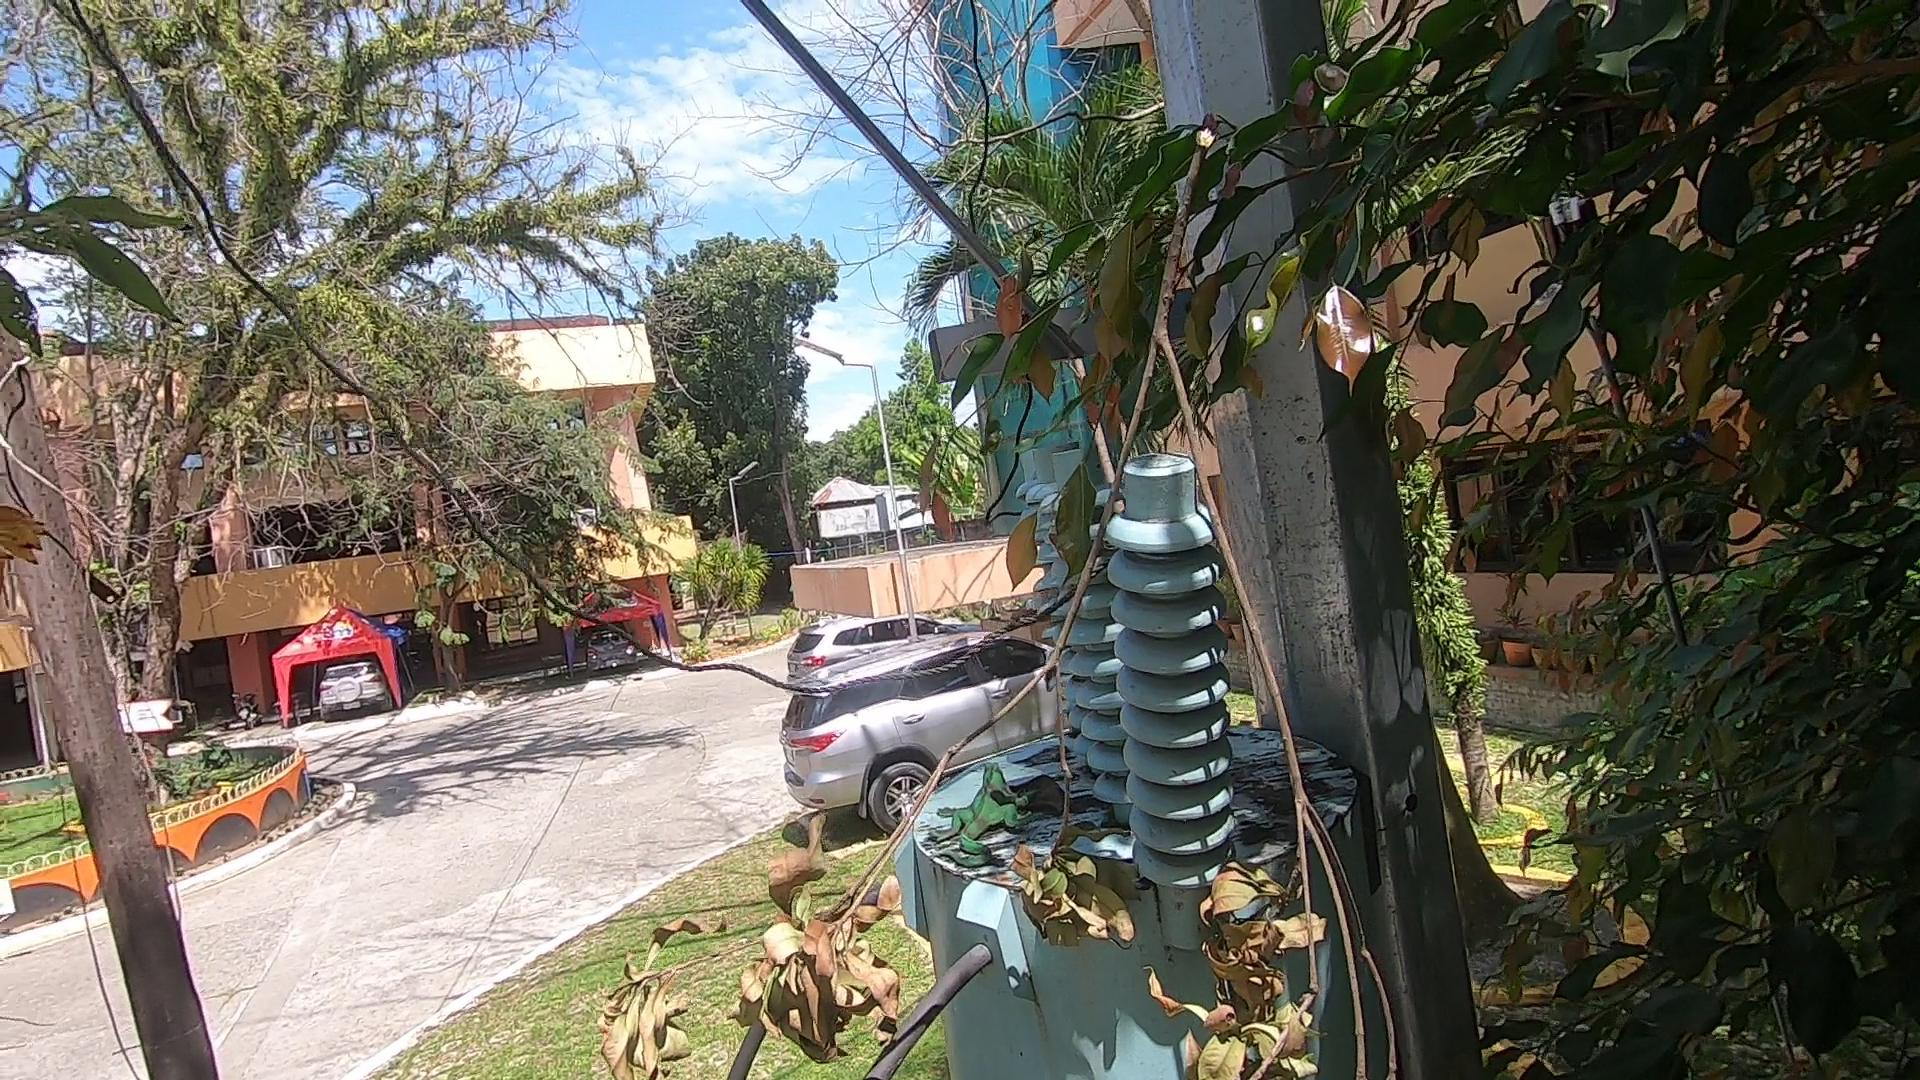branch with leaves: (517, 124, 1404, 1080)
leaf: (1011, 778, 1083, 827)
